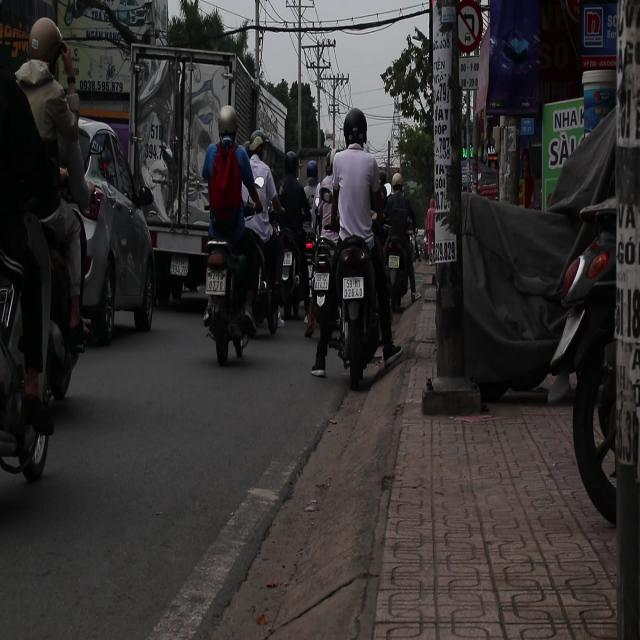car: (65, 115, 158, 344)
motorbike: (0, 180, 88, 492), (320, 232, 388, 392), (200, 237, 259, 368)
